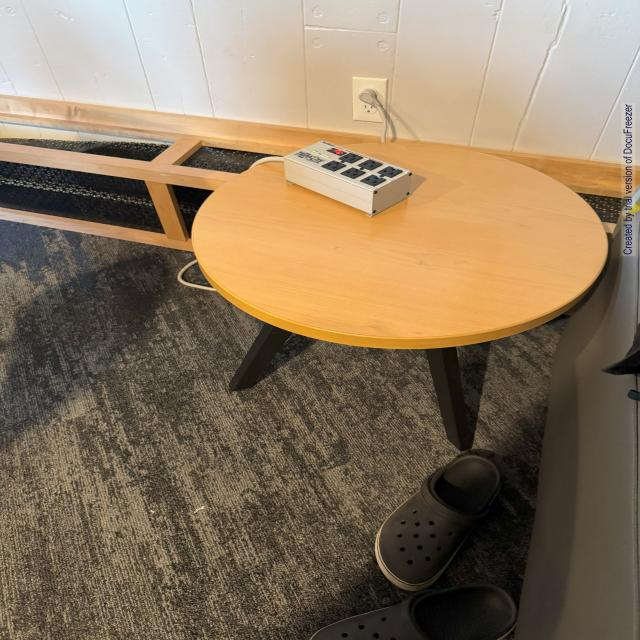Trash bin: (204, 136, 617, 456)
